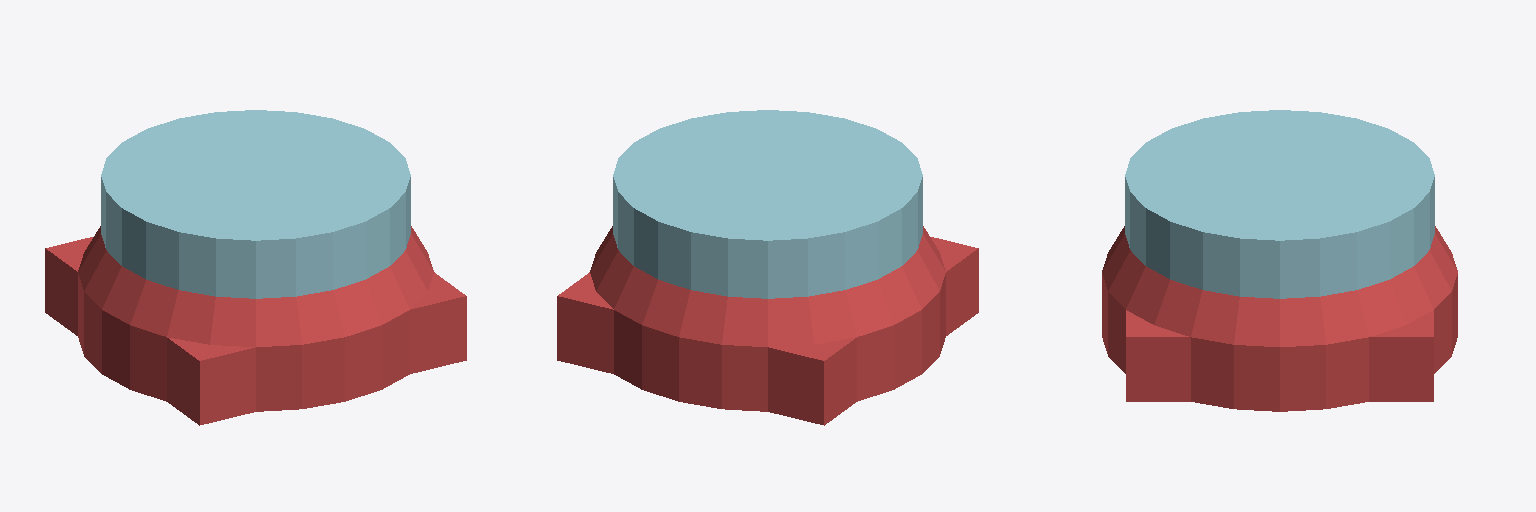
The model's file is towerRound_bottomB.obj.
3 views of the same model, side by side, from view 1: azimuth 30°, elevation 25°; view 2: azimuth 150°, elevation 25°; view 3: azimuth 270°, elevation 25° (orthographic).
Visible parts, largest first — view 1: towerRound_bottomB; view 2: towerRound_bottomB; view 3: towerRound_bottomB.
Boxes of the visible parts, box(x1,y1,x2,y2) form: towerRound_bottomB: box(45, 110, 466, 425); towerRound_bottomB: box(557, 110, 978, 425); towerRound_bottomB: box(1102, 110, 1457, 411).
Size of the model in its own units: 1 by 0.5 by 1.